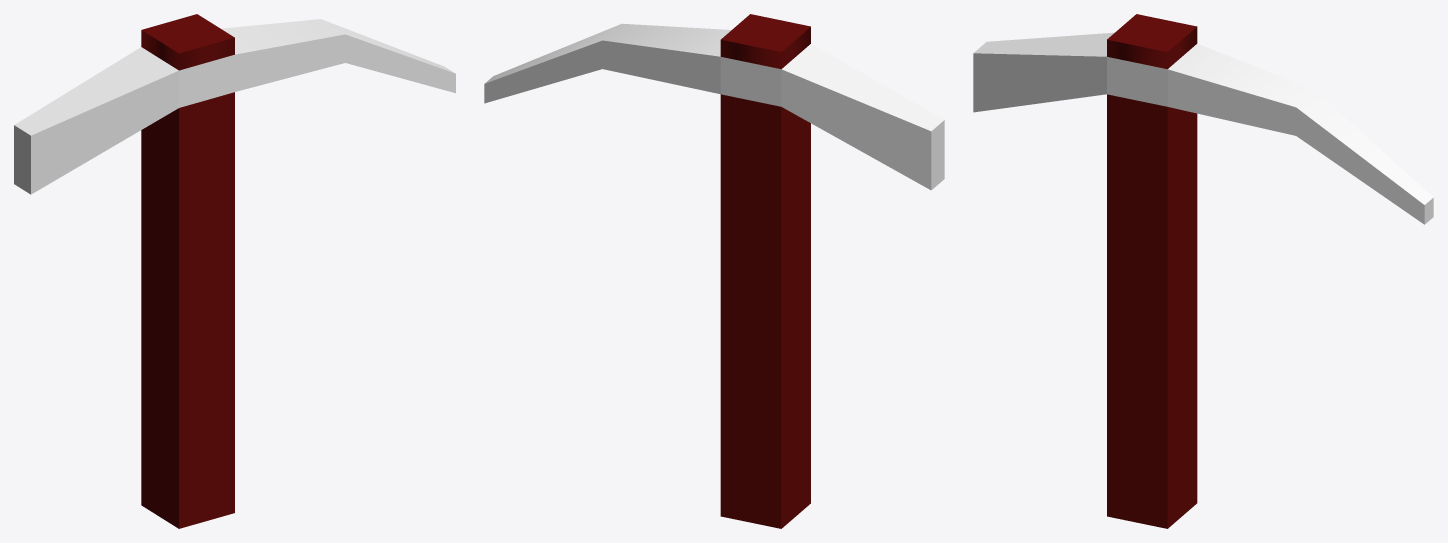
File: pickaxe.obj
3 views of the same model, side by side, from view 1: azimuth 30°, elevation 25°; view 2: azimuth 150°, elevation 25°; view 3: azimuth 330°, elevation 25° (orthographic).
Visible parts, largest first — view 1: Cube.009; view 2: Cube.009; view 3: Cube.009.
Boxes of the visible parts, x1,y1,x2,y2 form: Cube.009: [14, 14, 455, 528]; Cube.009: [484, 14, 944, 528]; Cube.009: [973, 14, 1433, 528].
Size of the model in its own units: 1.11 by 1.15 by 0.1571.
